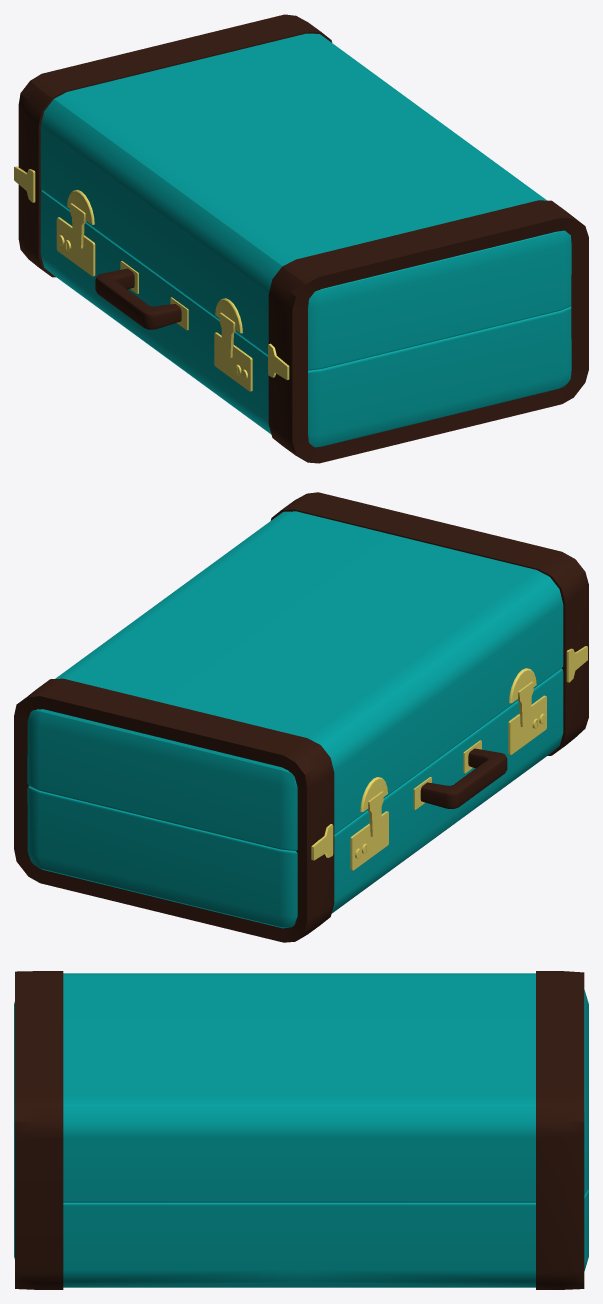
The model's file is blue briefcase.fbx.
3 renders of one model, top to bottom at view 1: azimuth 30°, elevation 25°; view 2: azimuth 150°, elevation 25°; view 3: azimuth 270°, elevation 25°, orthographic. The views are drawn at different scales.
Visible parts, largest first — view 1: polySurface2; view 2: polySurface2; view 3: polySurface2.
Part boxes in pixels (left/top/right/bottom): polySurface2: left=14, top=14, right=588, bottom=463; polySurface2: left=14, top=492, right=588, bottom=942; polySurface2: left=14, top=971, right=588, bottom=1289.
Bounding box in the file's own units: 10.9 × 5.89 × 16.03.
